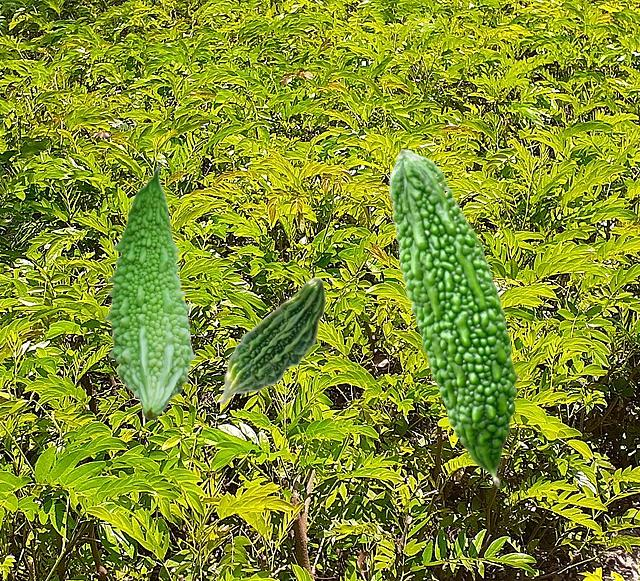ampalaya: (388, 148, 521, 488), (103, 163, 197, 422), (219, 275, 326, 405)
